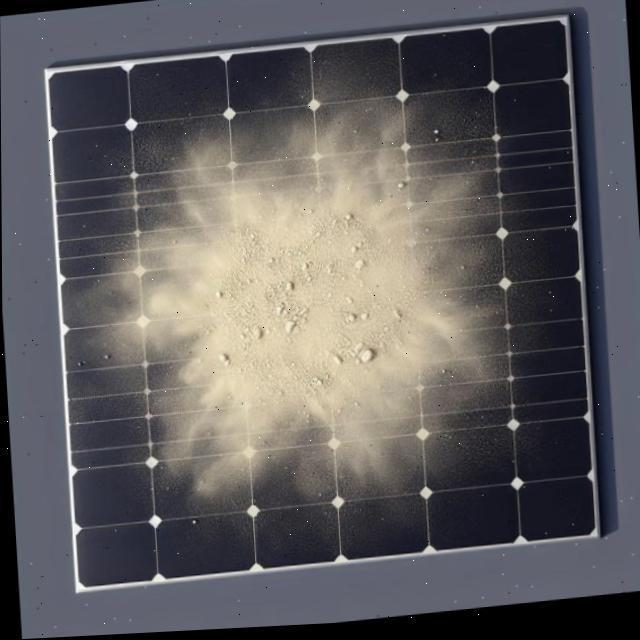Anomaly Solar Panel: (46, 24, 594, 591)
Surface Contaminant: (30, 26, 575, 610)
